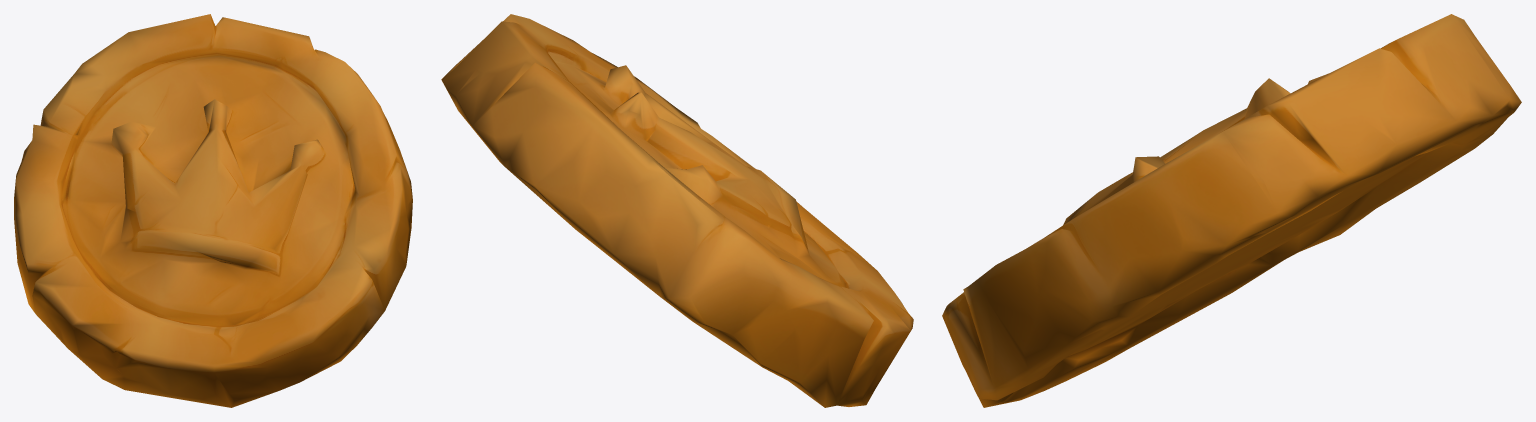
Rendered from gold_resource_coin.fbx.
The picture shows the model from 3 angles, left to right: view 1: azimuth 30°, elevation 25°; view 2: azimuth 150°, elevation 25°; view 3: azimuth 270°, elevation 25°; orthographic projection. The views are drawn at different scales.
Visible parts, largest first — view 1: tripo_node_10c5d25c; view 2: tripo_node_10c5d25c; view 3: tripo_node_10c5d25c.
Boxes of the visible parts, box(x1,y1,x2,y2) form: tripo_node_10c5d25c: box(14, 14, 412, 407); tripo_node_10c5d25c: box(441, 14, 913, 407); tripo_node_10c5d25c: box(942, 14, 1521, 407).
Bounding box in the file's own units: 100 × 99.21 × 80.49.
Materials: 1 (1 with a texture image).
